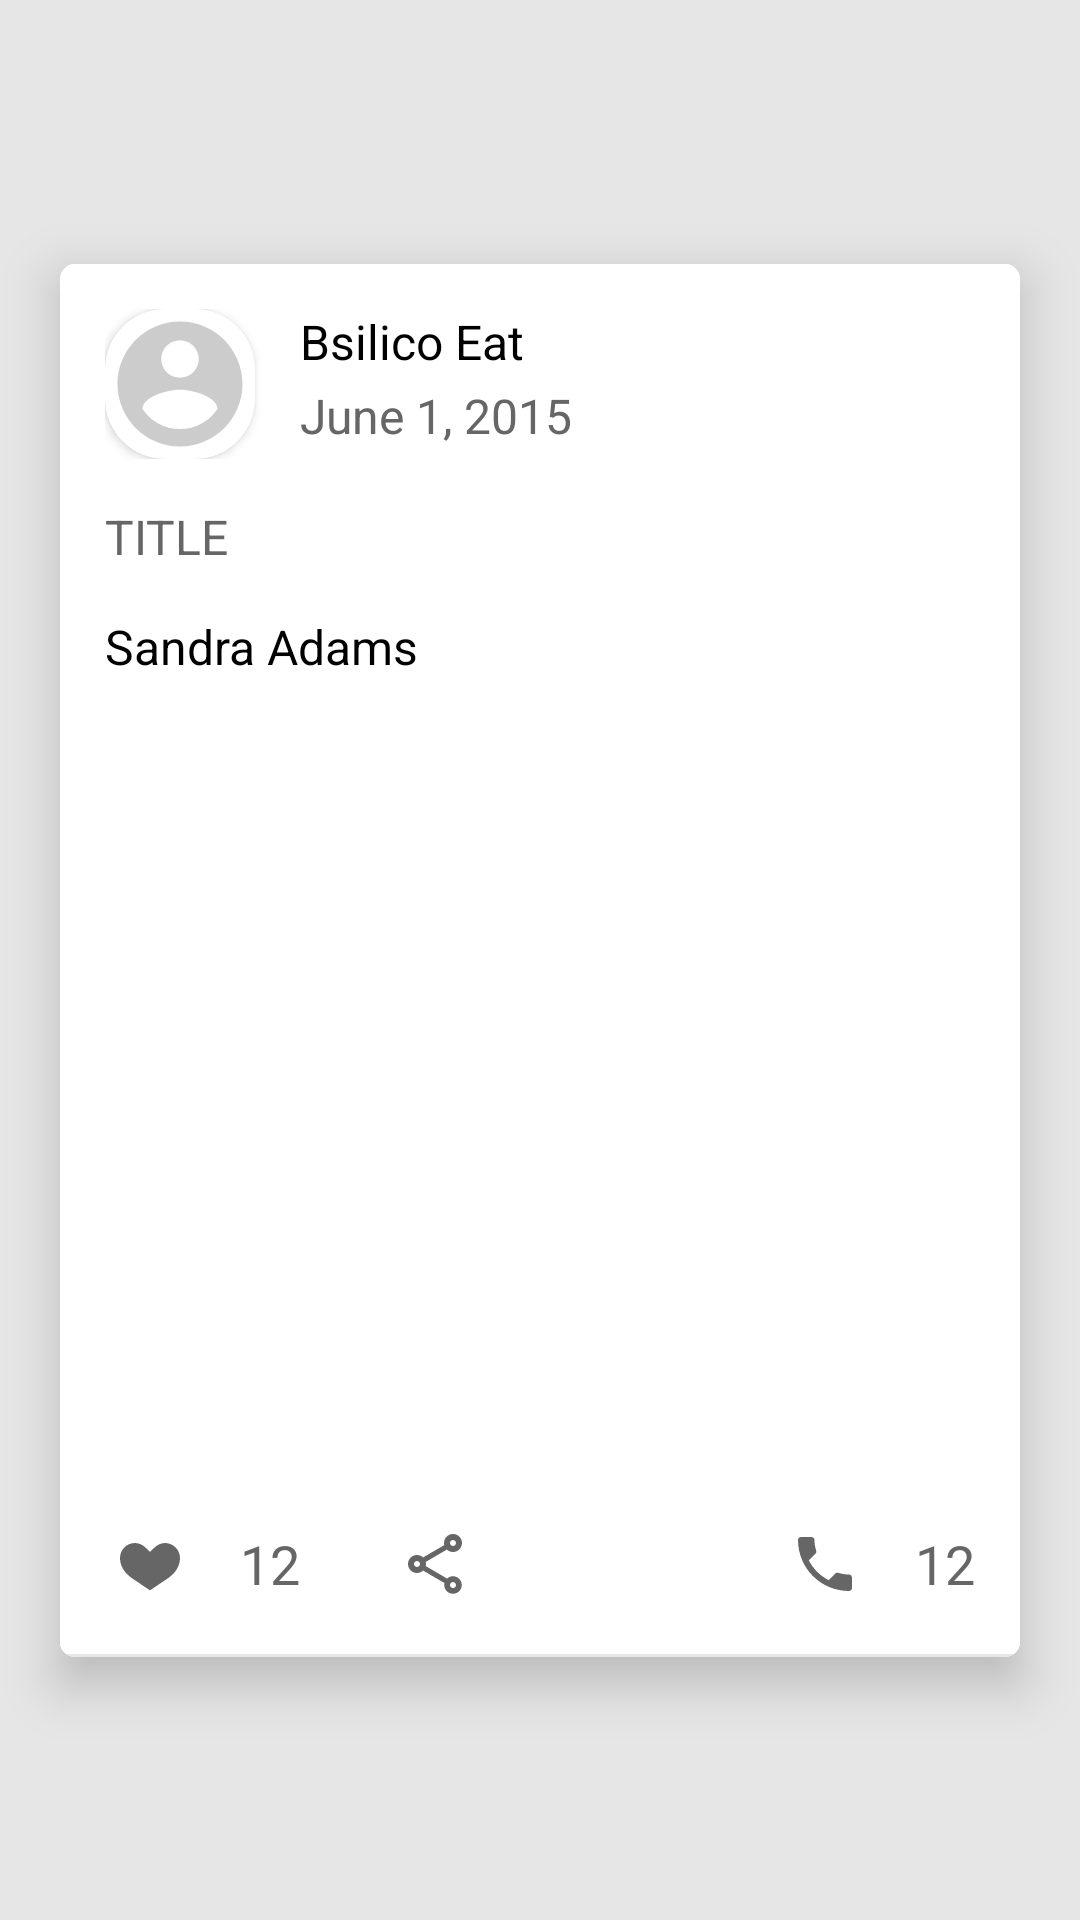

Where to tap for icons on this 1080px×1920px app screen, as [x,y]:
local phone: [825,1564]
share: [435,1564]
user profile: [173,390]
